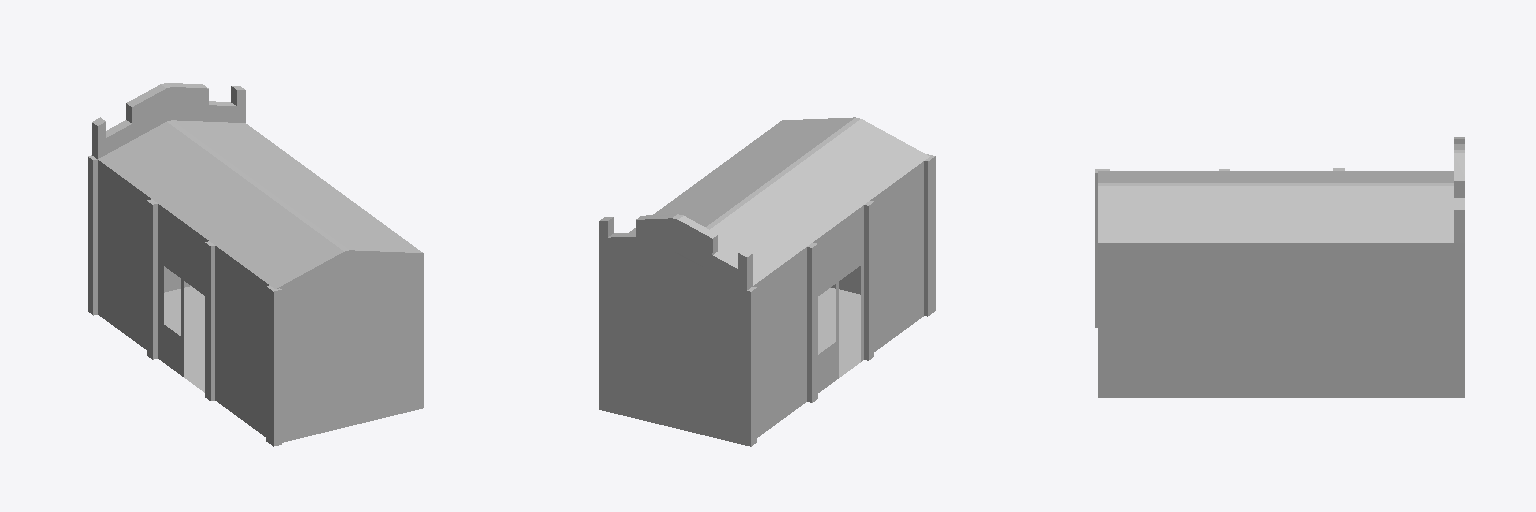
The model's file is centro.obj.
The picture shows the model from 3 angles: view 1: azimuth 30°, elevation 25°; view 2: azimuth 150°, elevation 25°; view 3: azimuth 270°, elevation 25°; orthographic projection.
Visible parts, largest first — view 1: Cube; view 2: Cube; view 3: Cube.
Part boxes in pixels (bbox=[...]): Cube: bbox=[88, 83, 423, 446]; Cube: bbox=[599, 117, 935, 446]; Cube: bbox=[1095, 137, 1464, 397].
Size of the model in its own units: 14.51 by 18.89 by 30.29.